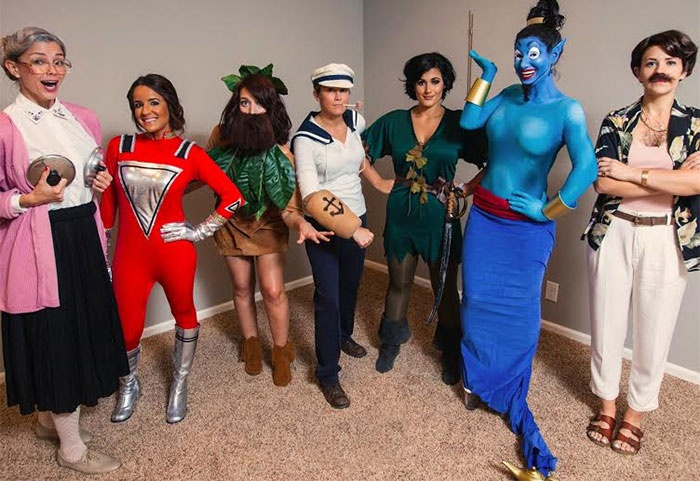bad: (20, 44, 72, 95), (640, 50, 684, 94), (129, 90, 165, 126), (509, 42, 545, 78), (409, 70, 445, 106)
